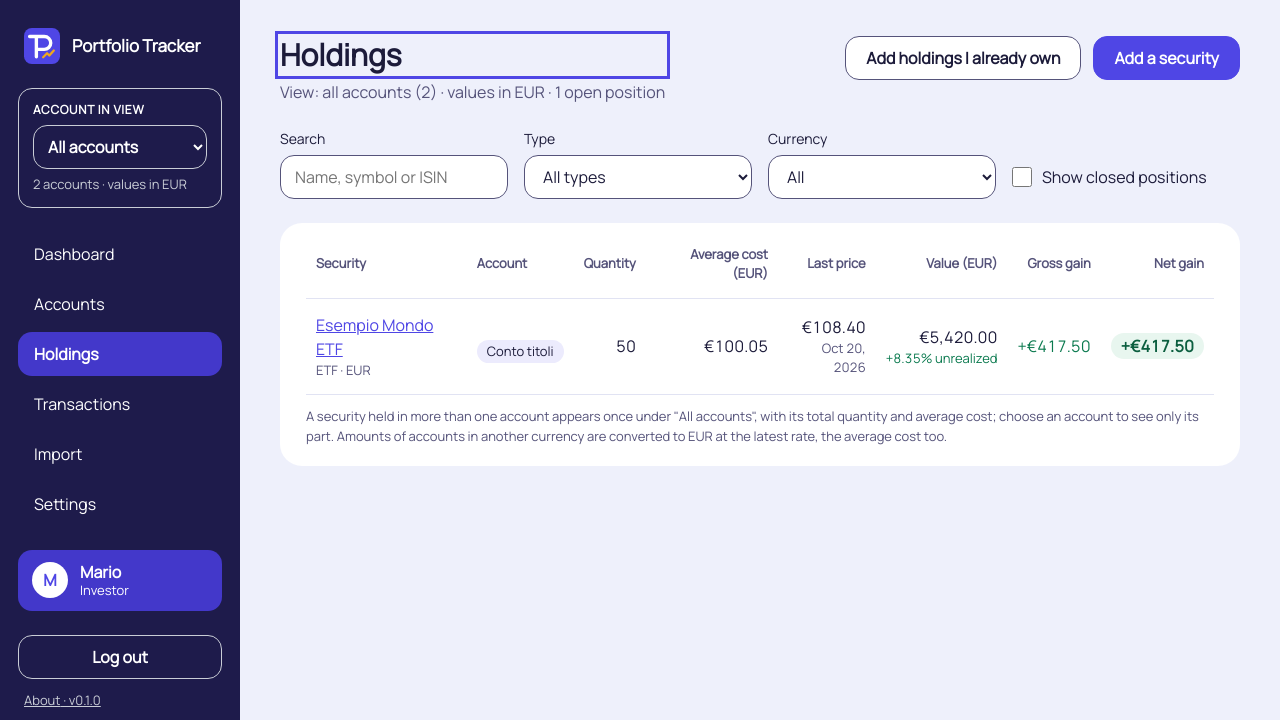
Test: holdings list (mockup 02, D-143, D-146) › names a stale rate only while a row that uses it is shown
Expected: the row "Esempio Mondo ETF" is shown, [306,298,1214,394]
Expected: the text "USD/EUR" is not shown
Click the checkbox labelled "Show closed positions" at (1022, 176), box [1012,166,1032,186]
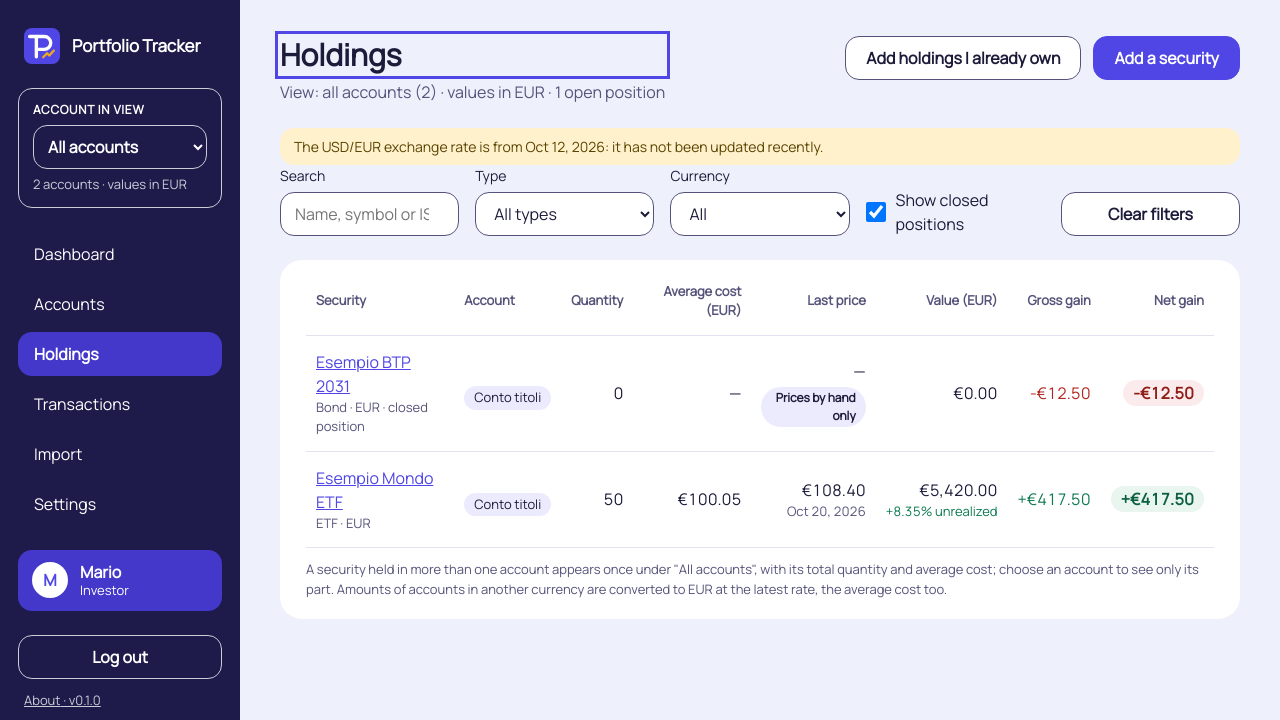
Expected: the list item "USD/EUR" is shown, [294,136,823,156]
